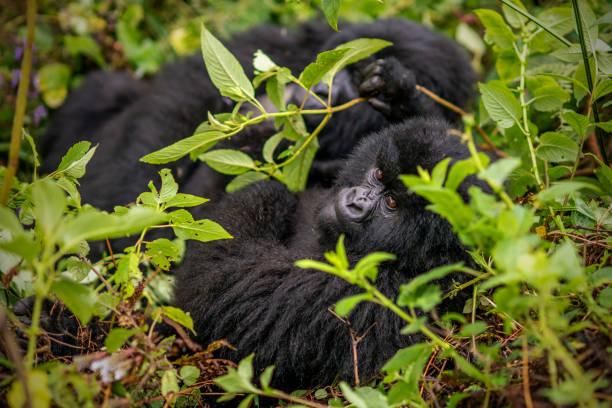goriile_montagne: (64, 30, 465, 238), (191, 118, 491, 377)
